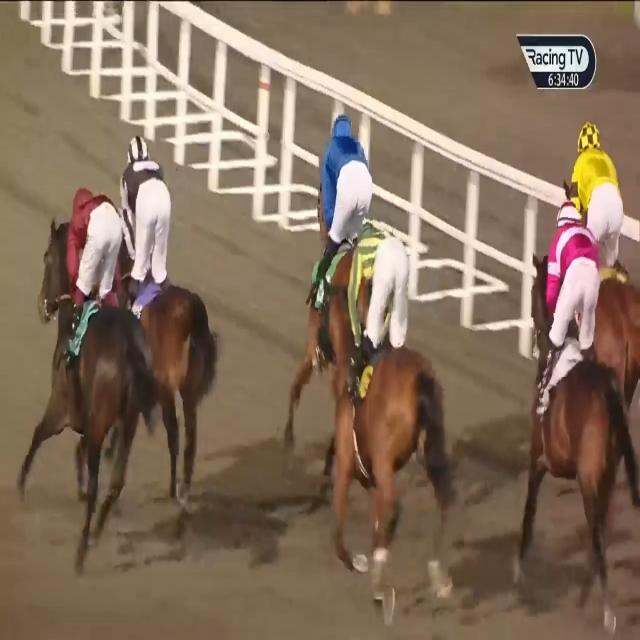horses-racing: (308, 218, 436, 579), (37, 185, 144, 554), (114, 130, 215, 509), (531, 205, 626, 596), (308, 115, 386, 402), (563, 120, 640, 388)
